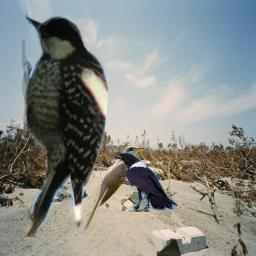Crow: (112, 152, 178, 212)
Cuckoo: (82, 145, 145, 232)
Woodpecker: (22, 14, 110, 237)
